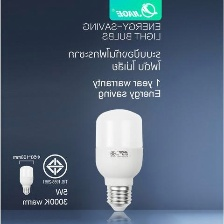light_bulb: (94, 106, 146, 214), (18, 164, 34, 195)
